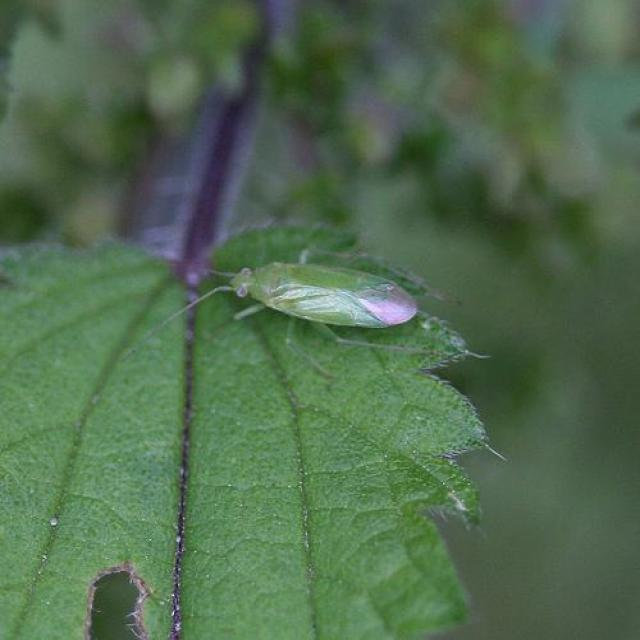Miridae-Adult-: (149, 215, 469, 390)
